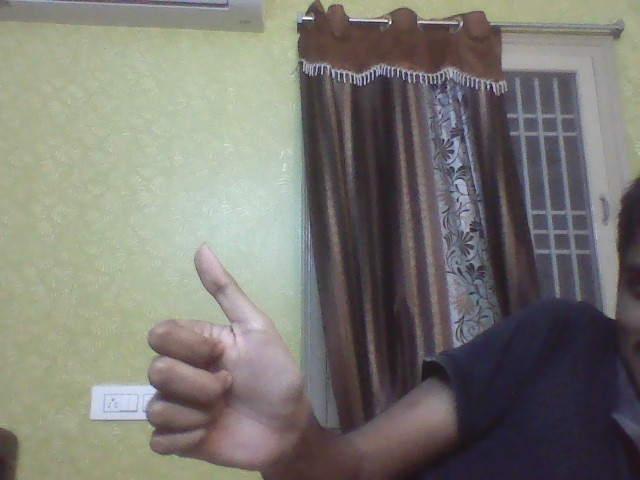thumbsup: (140, 245, 316, 471)
